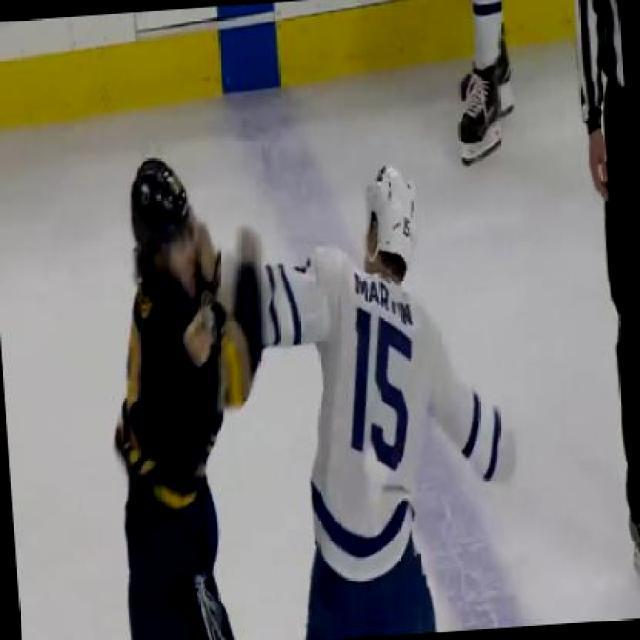fight: (94, 132, 514, 638)
